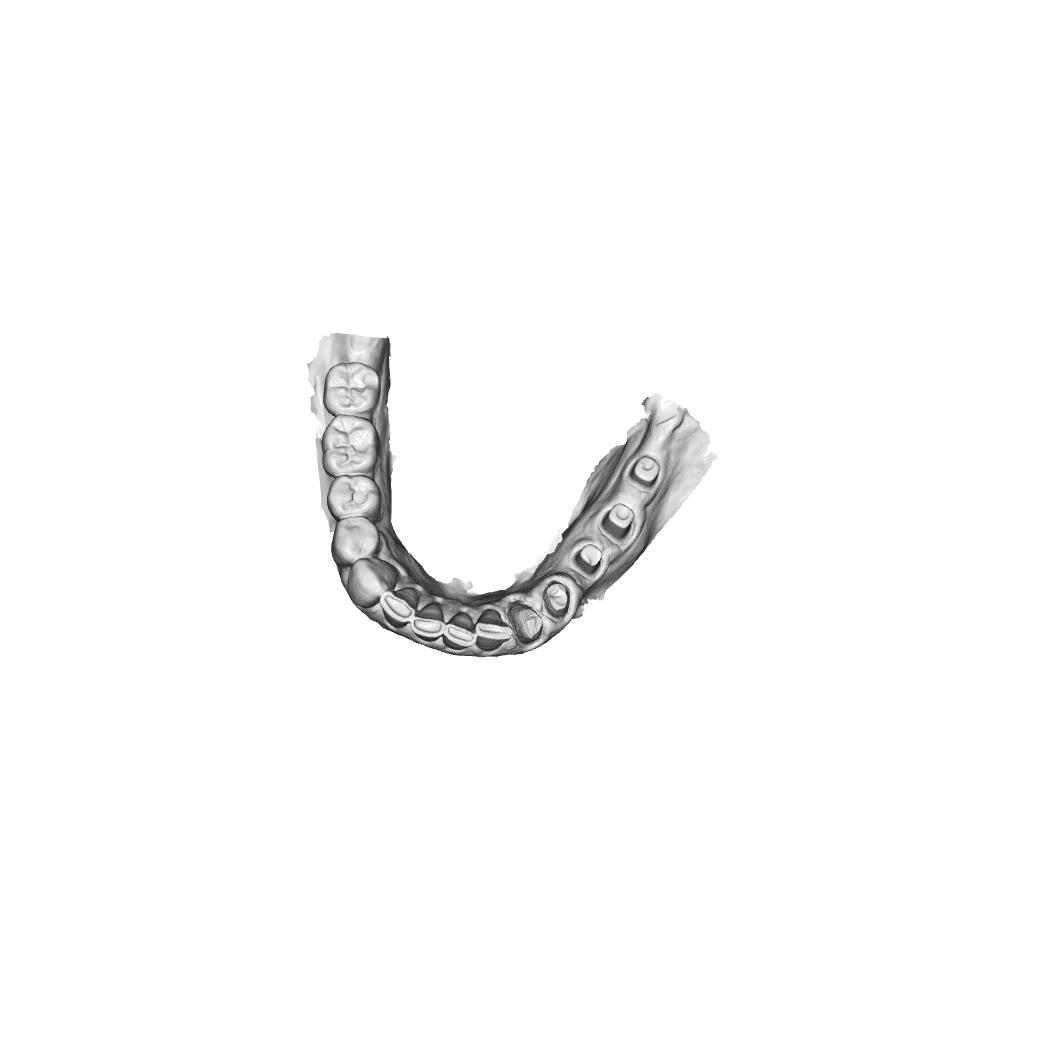abutment: (599, 502, 635, 542), (628, 455, 661, 490), (573, 543, 603, 577)
canine: (347, 556, 401, 609)
crown: (507, 600, 544, 646), (540, 580, 573, 619)
incisor: (473, 608, 514, 653), (379, 586, 420, 629), (409, 602, 445, 643), (442, 611, 478, 651)
molar: (321, 414, 380, 477), (322, 361, 381, 418)
premolar: (326, 474, 383, 522), (330, 516, 382, 568)
